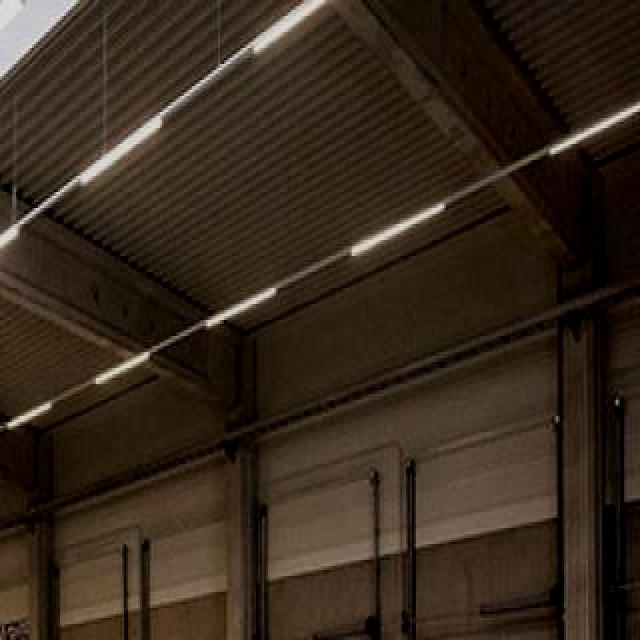fluorescent tube: (522, 89, 640, 189), (64, 113, 175, 207), (331, 198, 456, 271), (236, 0, 333, 78), (191, 276, 309, 340), (78, 337, 160, 406), (4, 386, 71, 437), (0, 218, 24, 288)
